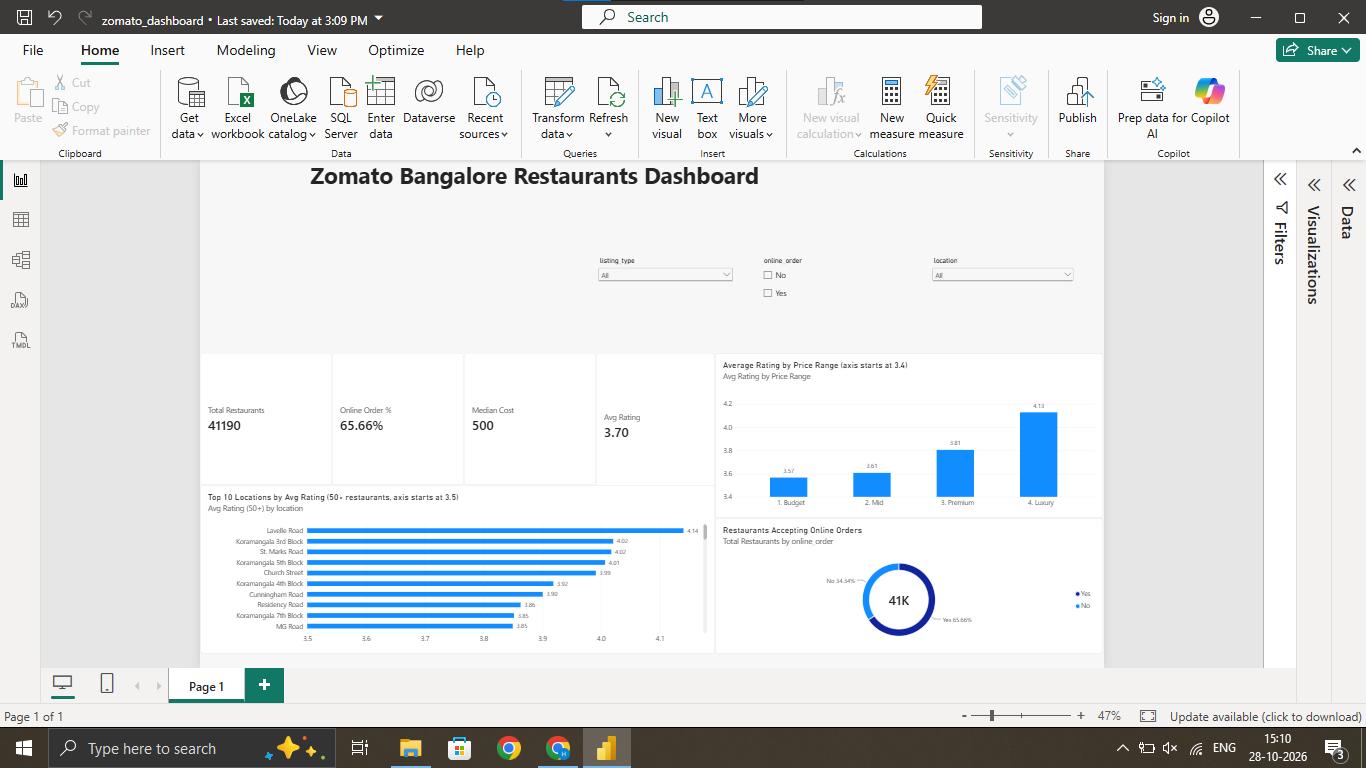

The page's visual inventory and layout, read from the dashboard file:
{"tool":"powerbi","page":{"name":"Page 1","canvas":[1920,1080],"ordinal":0},"visuals":[{"type":"cardVisual","fields":{"Data":["zomato_cleaned.Total Restaurants"]},"box":[0,410.3,280,280],"z":0},{"type":"cardVisual","fields":{"Data":["zomato_cleaned.Online Order %"]},"box":[280.6,410.3,280,280],"z":1},{"type":"cardVisual","fields":{"Data":["zomato_cleaned.Median Cost"]},"box":[561.3,410.3,280,280],"z":2},{"type":"cardVisual","fields":{"Data":["zomato_cleaned.Avg Rating"]},"box":[841.9,410.3,253,310.4],"z":3},{"type":"clusteredBarChart","title":"Top 10 Locations by Avg Rating (50+ restaurants, axis starts at 3.5)","fields":{"Category":["zomato_cleaned.location"],"Y":["zomato_cleaned.Avg Rating (50+)"]},"box":[0,690.9,1094.9,359.3],"z":4},{"type":"clusteredColumnChart","title":"Average Rating by Price Range (axis starts at 3.4)","fields":{"Category":["zomato_cleaned.Price Range"],"Y":["zomato_cleaned.Avg Rating"]},"box":[1094.9,410.3,824.9,350.8],"z":5},{"type":"donutChart","title":"Restaurants Accepting Online Orders","fields":{"Category":["zomato_cleaned.online_order"],"Y":["zomato_cleaned.Total Restaurants"]},"box":[1094.9,761.1,824.9,289.1],"z":6},{"type":"slicer","fields":{"Values":["zomato_cleaned.location"]},"box":[1552,206.2,310.4,204.1],"z":7},{"type":"slicer","fields":{"Values":["zomato_cleaned.online_order"]},"box":[1190.6,206.2,316.8,204.1],"z":8},{"type":"slicer","fields":{"Values":["zomato_cleaned.listing_type"]},"box":[841.9,206.2,295.5,204.1],"z":9},{"type":"textbox","box":[0,0,1422.3,82.9],"z":10}]}

Visuals, with their boxes on the page's 1920x1080 design canvas (x1, y1, x2, y2). These are canvas units, not pixel positions in the 1366x768 screenshot, which may show the page scaled, cropped or inside an application window:
cardVisual - zomato_cleaned.Total Restaurants: crop(0, 410, 280, 690)
cardVisual - zomato_cleaned.Online Order %: crop(281, 410, 561, 690)
cardVisual - zomato_cleaned.Median Cost: crop(561, 410, 841, 690)
cardVisual - zomato_cleaned.Avg Rating: crop(842, 410, 1095, 721)
"Top 10 Locations by Avg Rating (50+ restaurants, axis starts at 3.5)" clusteredBarChart: crop(0, 691, 1095, 1050)
"Average Rating by Price Range (axis starts at 3.4)" clusteredColumnChart: crop(1095, 410, 1920, 761)
"Restaurants Accepting Online Orders" donutChart: crop(1095, 761, 1920, 1050)
slicer - zomato_cleaned.location: crop(1552, 206, 1862, 410)
slicer - zomato_cleaned.online_order: crop(1191, 206, 1507, 410)
slicer - zomato_cleaned.listing_type: crop(842, 206, 1137, 410)
textbox: crop(0, 0, 1422, 83)
